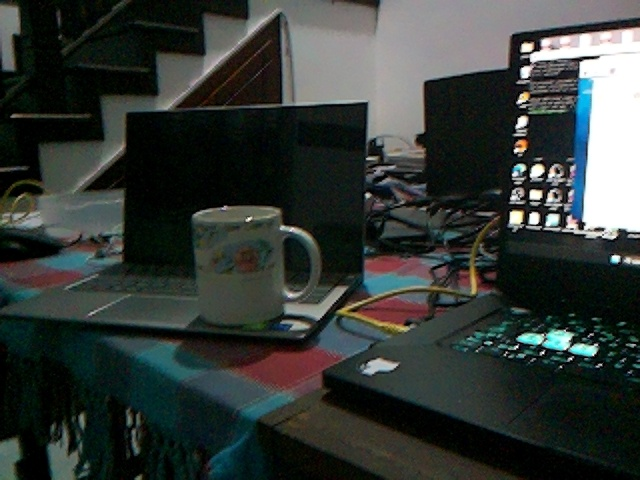mug: (188, 201, 323, 330)
